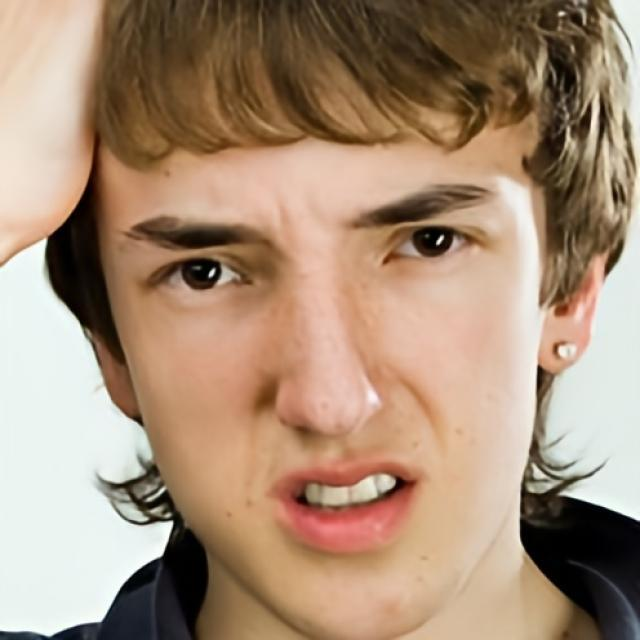disgust: (100, 0, 545, 640)
